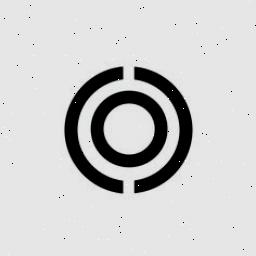o: (61, 57, 195, 199)
